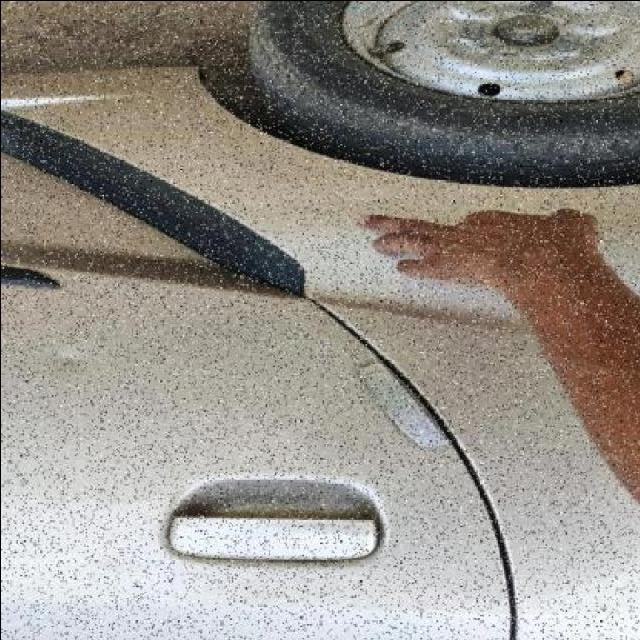quaterpanel-dent: (186, 34, 640, 276)
